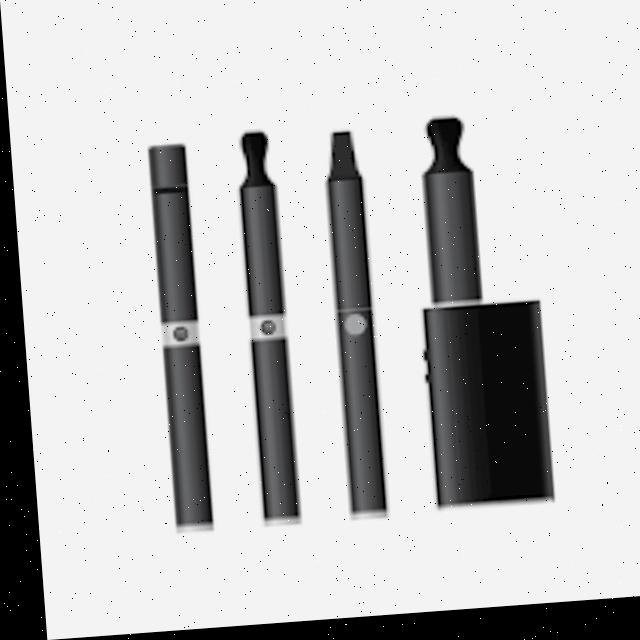vape: (404, 117, 547, 520), (321, 130, 385, 529), (145, 143, 209, 539), (232, 135, 295, 531)
